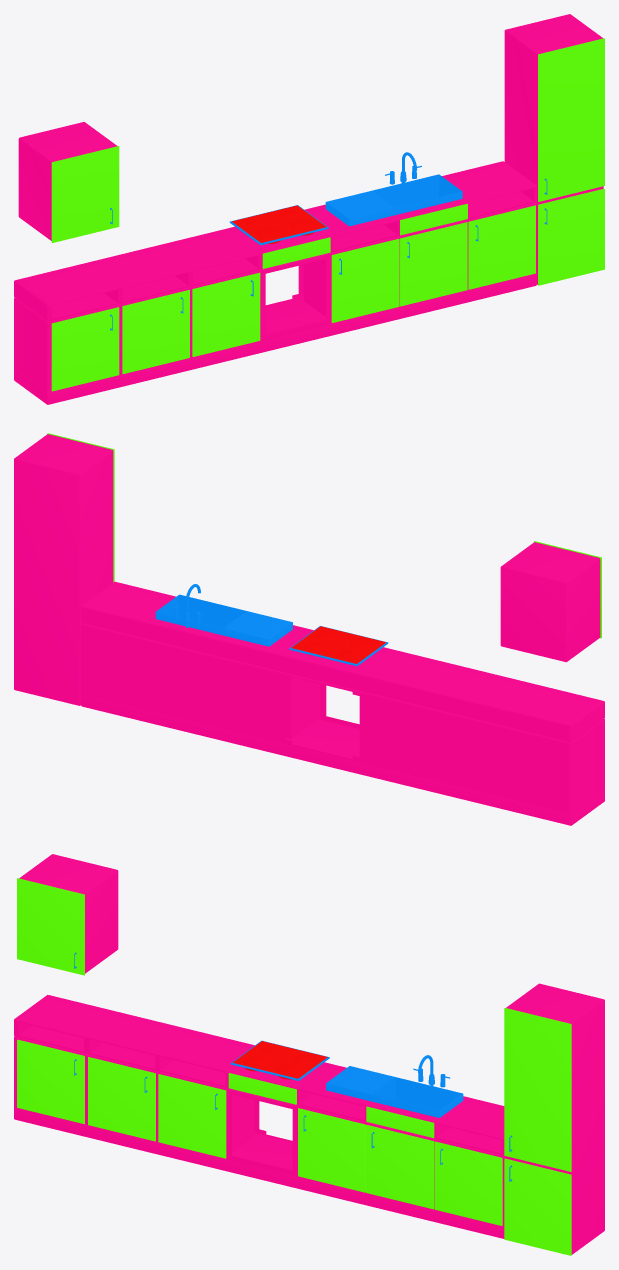
The model's file is CitchenFinal_03.fbx.
3 renders of one model, top to bottom at view 1: azimuth 30°, elevation 25°; view 2: azimuth 150°, elevation 25°; view 3: azimuth 330°, elevation 25°, orthographic.
Visible parts, largest first — view 1: Body; view 2: Body; view 3: Body.
Part boxes in pixels (x1=…): Body: x1=14, y1=14, x2=604, y2=404; Body: x1=14, y1=433, x2=604, y2=825; Body: x1=14, y1=854, x2=604, y2=1255.
Bounding box in the file's own units: 504 × 209 × 56.72.
